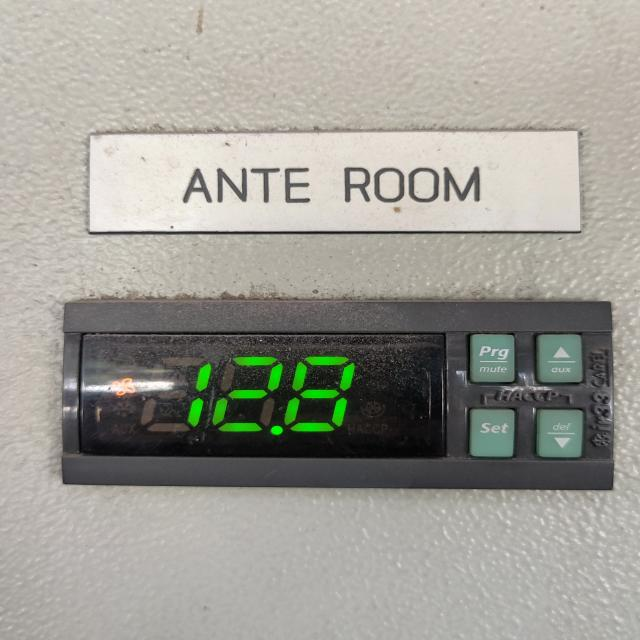display: (81, 332, 442, 460)
frame: (164, 349, 377, 441)
gauge: (61, 301, 614, 488)
